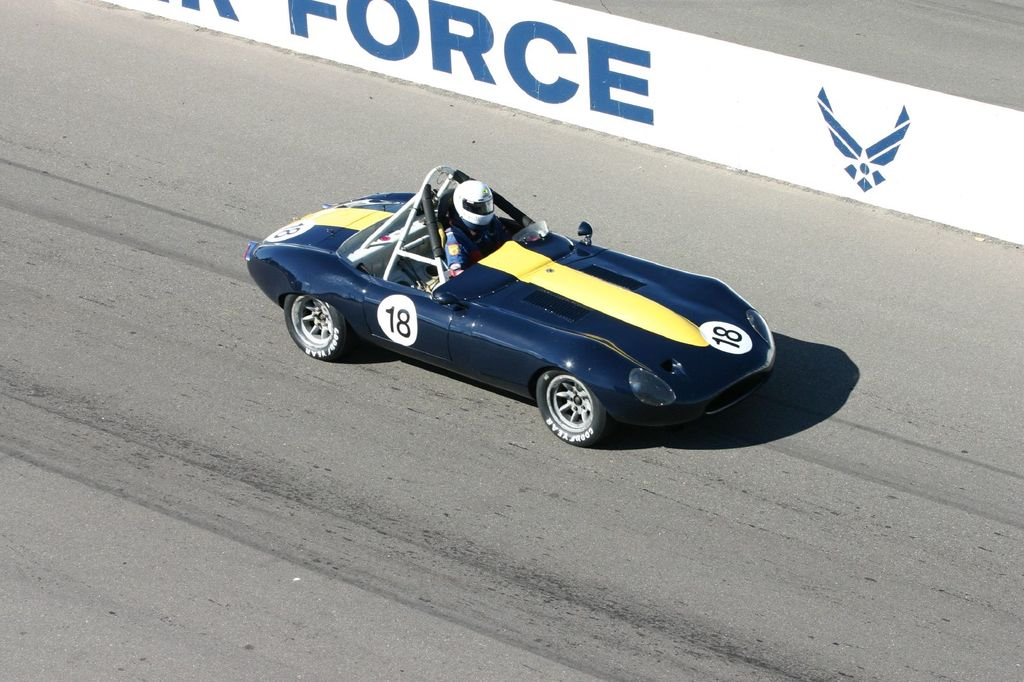Car: (243, 161, 776, 446)
